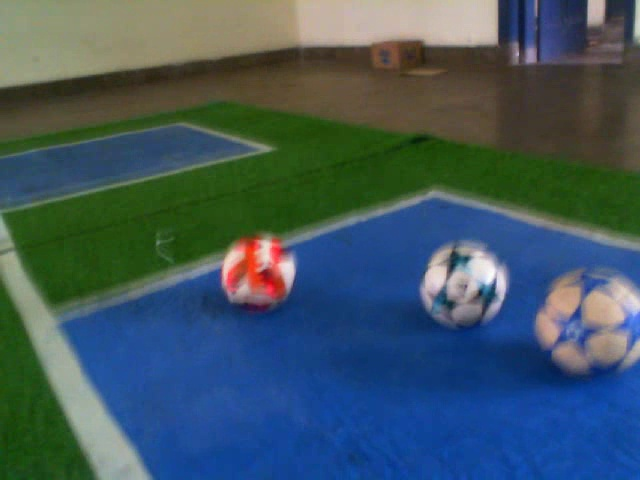ball: (532, 261, 640, 382), (415, 235, 513, 334), (218, 226, 301, 315)
